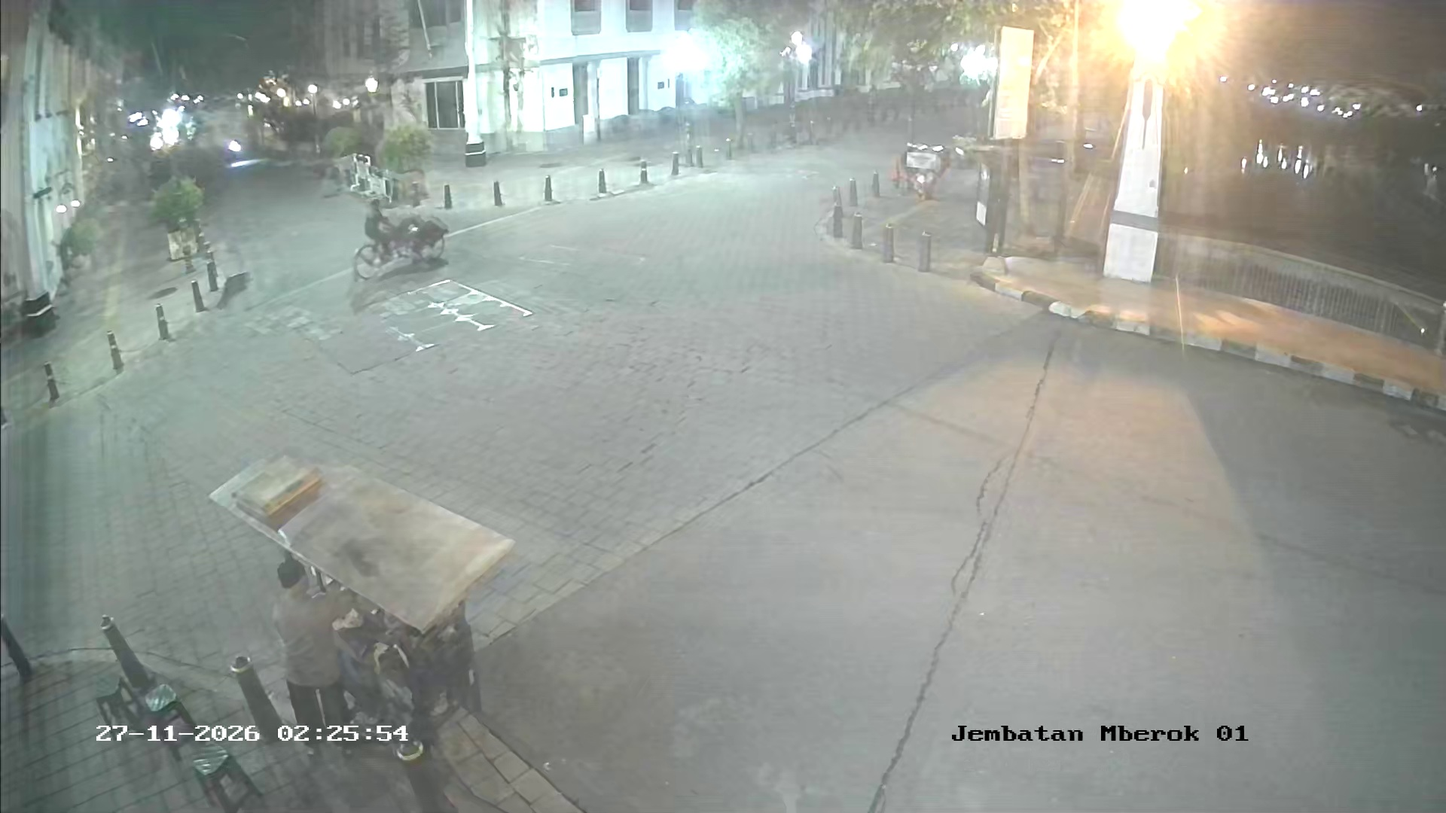Gerobak: (210, 452, 515, 761)
